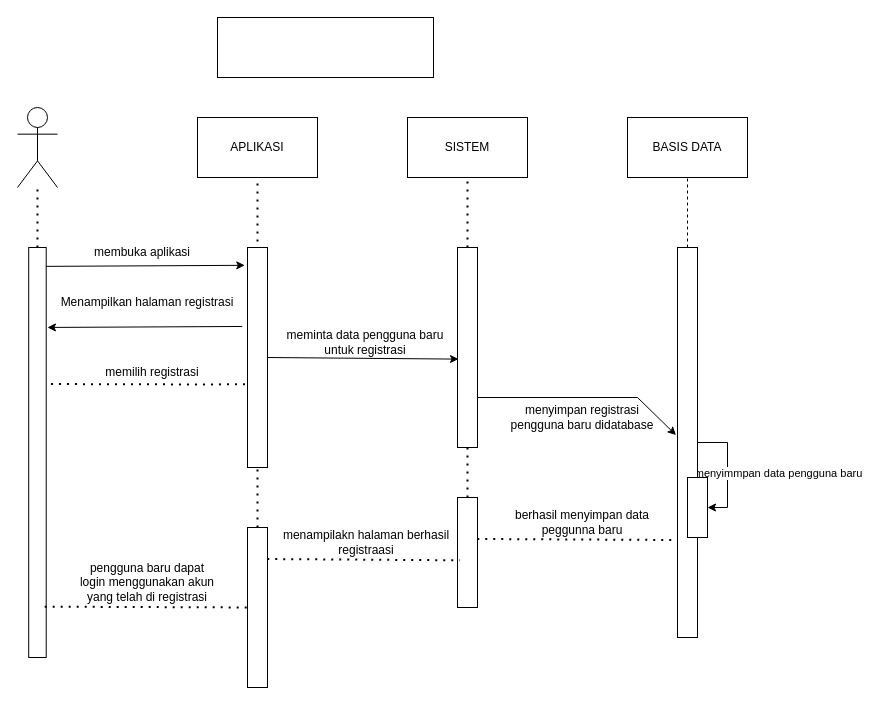
This 879x705 diagram has some shape labels left out. Each missing label, with the centre of its shape:
"SEQUENCE DIAGRAM REGISTRASI" goes at point (325, 47).
"USER" goes at point (37, 147).
